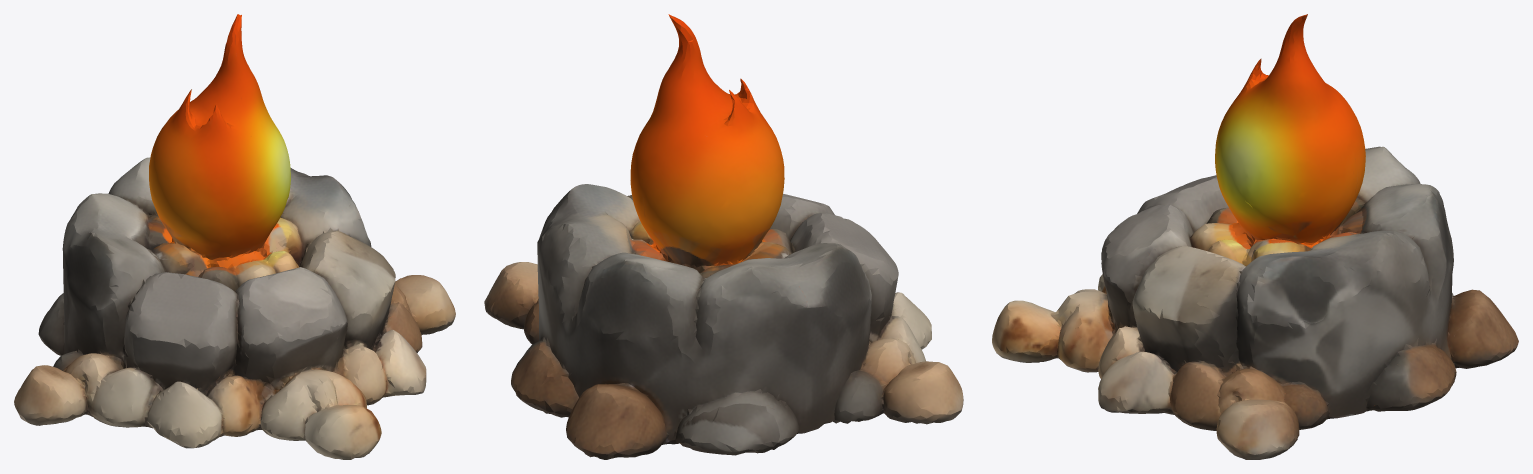
3 renders of one model, left to right at view 1: azimuth 30°, elevation 25°; view 2: azimuth 150°, elevation 25°; view 3: azimuth 270°, elevation 25°, orthographic. The views are drawn at different scales.
Parts seen in each view (by area): view 1: FlintFirestarter; view 2: FlintFirestarter; view 3: FlintFirestarter.
Boxes of the visible parts, x1=… form: FlintFirestarter: x1=14, y1=14, x2=455, y2=459; FlintFirestarter: x1=484, y1=14, x2=963, y2=459; FlintFirestarter: x1=992, y1=14, x2=1518, y2=459.
Size of the model in its own units: 1.9 by 1.39 by 1.89.
Materials: 1 (1 with a texture image).
